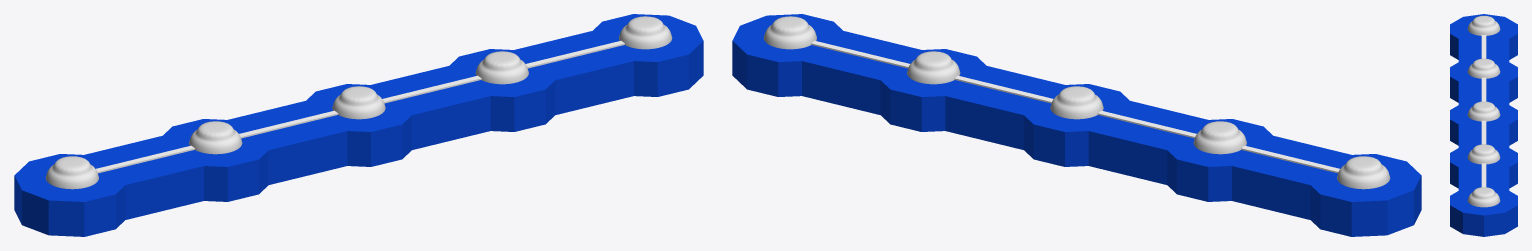
The model's file is 5BarConnector.fbx.
3 renders of one model, left to right at view 1: azimuth 30°, elevation 25°; view 2: azimuth 150°, elevation 25°; view 3: azimuth 270°, elevation 25°, orthographic. The views are drawn at different scales.
Visible parts, largest first — view 1: pCube1, pCylinder9, pCylinder1, pCylinder2, pCylinder5, pCylinder8, pCylinder10, pCylinder3, pCylinder7, pCylinder4, pCylinder6, pCube2 (+3 smaller); view 2: pCube1, pCylinder9, pCylinder1, pCylinder2, pCylinder8, pCylinder5, pCylinder10, pCylinder3, pCylinder7, pCylinder4, pCylinder6, pCube2 (+3 smaller); view 3: pCube1, pCylinder1, pCylinder9, pCylinder2, pCylinder8, pCylinder5, pCylinder10, pCylinder4, pCylinder6, pCylinder7, pCylinder3, pCube2 (+3 smaller).
Part boxes in pixels (<box>): pCube1: <box>52,23,664,219</box>; pCylinder9: <box>14,154,128,236</box>; pCylinder1: <box>588,14,703,96</box>; pCylinder2: <box>444,49,559,131</box>; pCylinder5: <box>306,84,416,166</box>; pCylinder8: <box>163,119,268,201</box>; pCylinder10: <box>45,156,98,189</box>; pCylinder3: <box>475,51,528,84</box>; pCylinder7: <box>189,121,242,154</box>; pCylinder4: <box>619,16,672,49</box>; pCylinder6: <box>332,86,385,119</box>; pCube2: <box>525,40,624,68</box>; pCube1: <box>770,23,1382,219</box>; pCylinder9: <box>1309,154,1421,236</box>; pCylinder1: <box>732,14,847,96</box>; pCylinder2: <box>876,49,991,131</box>; pCylinder8: <box>1162,119,1277,201</box>; pCylinder5: <box>1024,84,1134,166</box>; pCylinder10: <box>1337,156,1390,189</box>; pCylinder3: <box>907,51,960,84</box>; pCylinder7: <box>1193,121,1246,154</box>; pCylinder4: <box>763,16,816,49</box>; pCylinder6: <box>1050,86,1103,119</box>; pCube2: <box>811,40,910,68</box>; pCube1: <box>1458,29,1509,200</box>; pCylinder1: <box>1450,187,1517,236</box>; pCylinder9: <box>1450,14,1517,59</box>; pCylinder2: <box>1450,143,1517,188</box>; pCylinder8: <box>1450,58,1517,102</box>; pCylinder5: <box>1450,105,1517,145</box>; pCylinder10: <box>1467,15,1500,35</box>; pCylinder4: <box>1467,187,1500,207</box>; pCylinder6: <box>1467,101,1500,121</box>; pCylinder7: <box>1467,58,1500,78</box>; pCylinder3: <box>1467,144,1500,164</box>; pCube2: <box>1481,163,1486,187</box>.
Bounding box in the file's own units: 9.41 × 0.7857 × 1.34.
